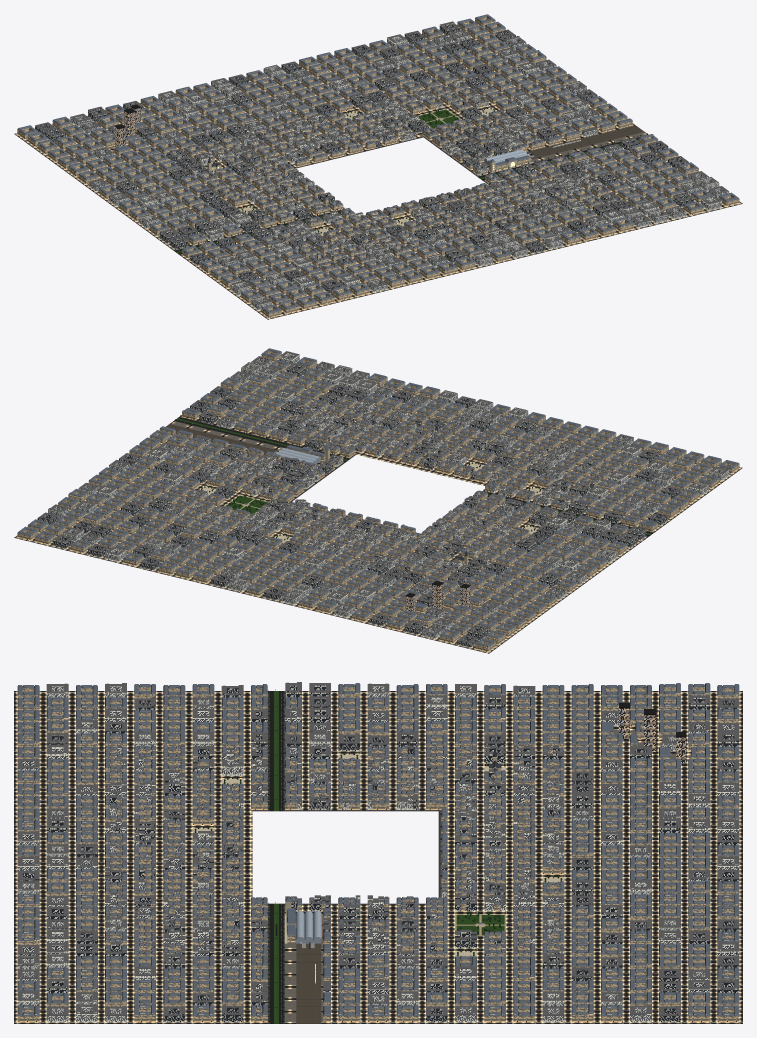
File: city.glb
3 views of the same model, one above another, from view 1: azimuth 30°, elevation 25°; view 2: azimuth 150°, elevation 25°; view 3: azimuth 270°, elevation 25° (orthographic). The views are drawn at different scales.
Parts seen in each view (by area): view 1: emissive_haussmann_city, zinc_city, zinc_flat_city, roofing_city, emissive_modern_light_city, emissive_modern_dark_city, emissive_city_ground_city, gravel_city, chimney_city, stone_city, emissive_curtain_city, paving_city (+1 smaller); view 2: emissive_haussmann_city, zinc_city, zinc_flat_city, roofing_city, emissive_modern_light_city, emissive_modern_dark_city, emissive_city_ground_city, chimney_city, lawn_city, asphalt_city, emissive_curtain_city, paving_city (+2 smaller); view 3: emissive_city_ground_city, zinc_city, emissive_haussmann_city, zinc_flat_city, roofing_city, emissive_modern_light_city, emissive_modern_dark_city, asphalt_city, gravel_city, lawn_city, chimney_city, paving_city (+4 smaller).
Boxes of the visible parts, x1,y1,x2,y2 form: emissive_haussmann_city: [17, 17, 739, 317]; zinc_city: [18, 15, 739, 313]; zinc_flat_city: [18, 14, 738, 312]; roofing_city: [35, 21, 728, 304]; emissive_modern_light_city: [70, 31, 729, 310]; emissive_modern_dark_city: [35, 23, 694, 293]; emissive_city_ground_city: [14, 25, 742, 319]; gravel_city: [526, 125, 644, 159]; chimney_city: [171, 81, 612, 267]; stone_city: [206, 108, 533, 235]; emissive_curtain_city: [115, 107, 140, 147]; paving_city: [174, 136, 639, 254]; emissive_haussmann_city: [17, 351, 739, 651]; zinc_city: [17, 349, 739, 646]; zinc_flat_city: [18, 348, 738, 645]; roofing_city: [38, 351, 728, 643]; emissive_modern_light_city: [48, 353, 729, 639]; emissive_modern_dark_city: [37, 365, 681, 647]; emissive_city_ground_city: [14, 359, 742, 653]; chimney_city: [171, 394, 619, 577]; lawn_city: [176, 418, 651, 535]; asphalt_city: [174, 417, 653, 536]; emissive_curtain_city: [405, 583, 470, 612]; paving_city: [174, 417, 653, 536]; emissive_city_ground_city: [14, 691, 742, 1023]; zinc_city: [17, 683, 739, 1015]; emissive_haussmann_city: [17, 687, 739, 1022]; zinc_flat_city: [18, 683, 738, 1013]; roofing_city: [17, 682, 739, 1015]; emissive_modern_light_city: [17, 686, 739, 1022]; emissive_modern_dark_city: [17, 685, 739, 1022]; asphalt_city: [269, 691, 283, 1023]; gravel_city: [296, 943, 321, 1023]; lawn_city: [274, 691, 504, 1023]; chimney_city: [106, 745, 563, 952]; paving_city: [252, 691, 440, 1023].
Size of the model in its own units: 2160 by 127 by 2000.
30 materials, 13 textured.
